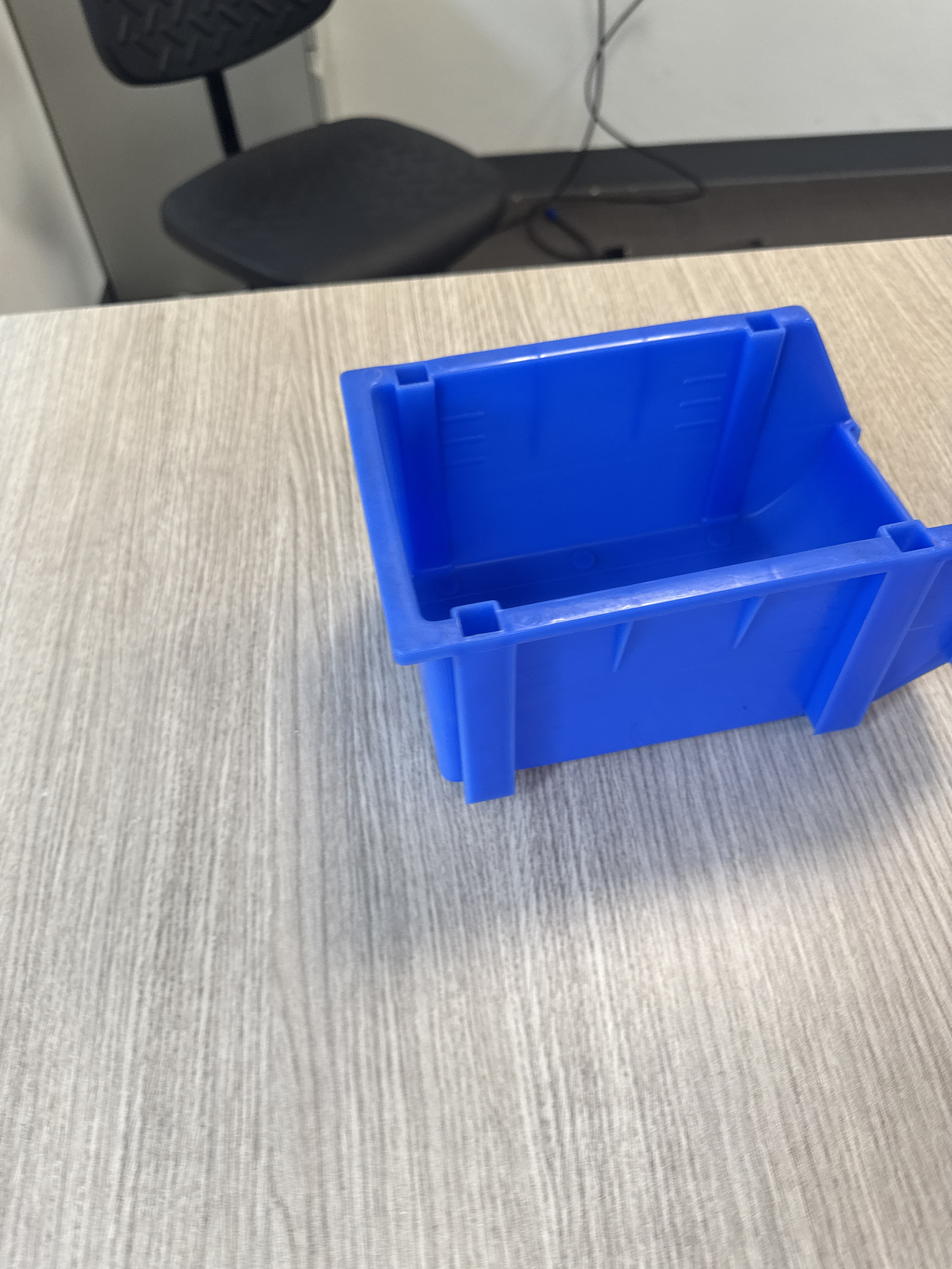Bin Boundary: (375, 287, 935, 637)
